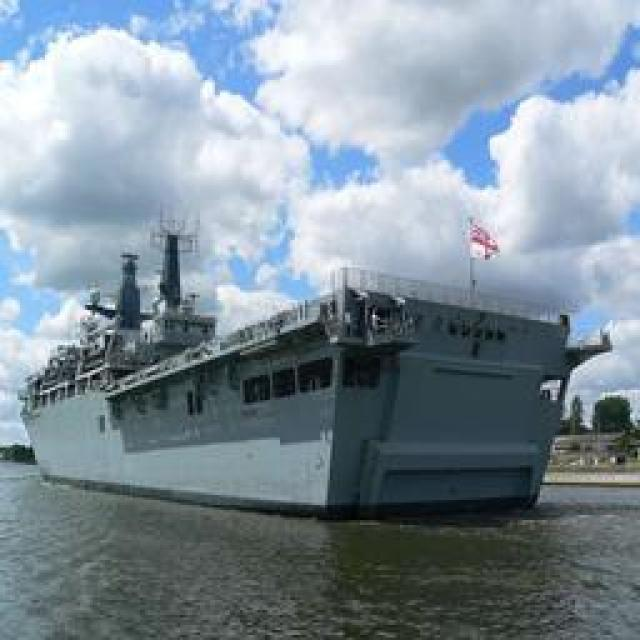CIV_Ship: (29, 242, 582, 520)
